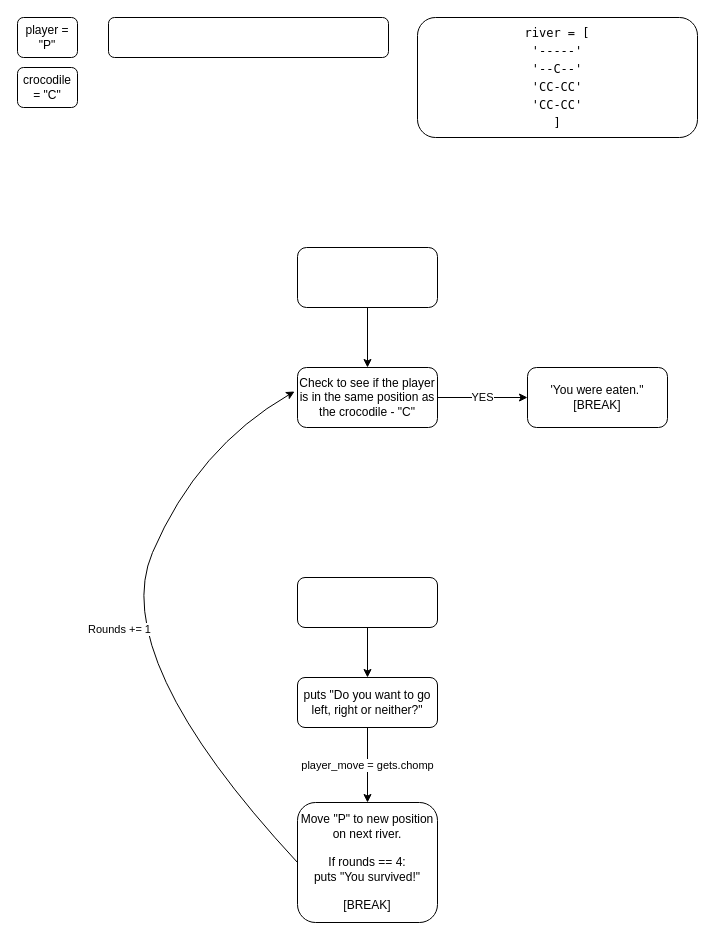
Image size: 715x940. Some labels were removed from this diagram. Each missing label, with the centre of its shape:
Puts the whole '"river" with a "P" showing the players position: (x=367, y=602)
river = "-----,--C--,CC-CC,CC-CC".split(","): (x=248, y=37)
Start the player in the middle of the river, with a "P": (x=367, y=277)
